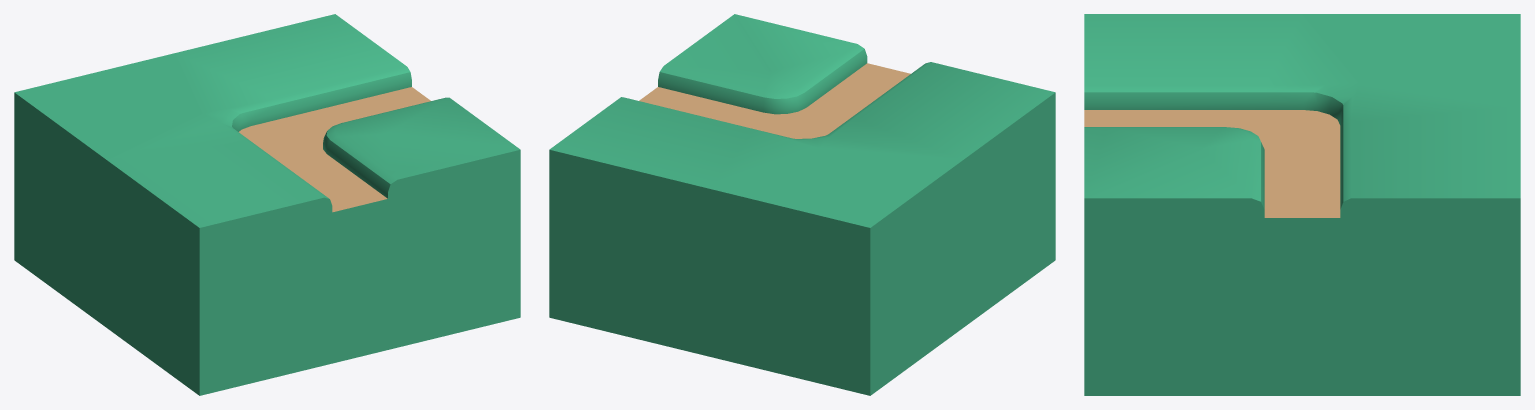
Rendered from kaykit-square-forest-roadc.glb.
3 renders of one model, left to right at view 1: azimuth 30°, elevation 25°; view 2: azimuth 150°, elevation 25°; view 3: azimuth 270°, elevation 25°, orthographic. The views are drawn at different scales.
Visible parts, largest first — view 1: square_forest_roadC; view 2: square_forest_roadC; view 3: square_forest_roadC.
Part boxes in pixels (x1,y1,x2,y2): square_forest_roadC: [14, 14, 520, 395]; square_forest_roadC: [549, 14, 1055, 395]; square_forest_roadC: [1084, 14, 1520, 395].
Size of the model in its own units: 2 by 0.9998 by 2.
